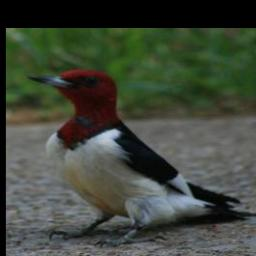Woodpecker: (21, 68, 256, 245)
